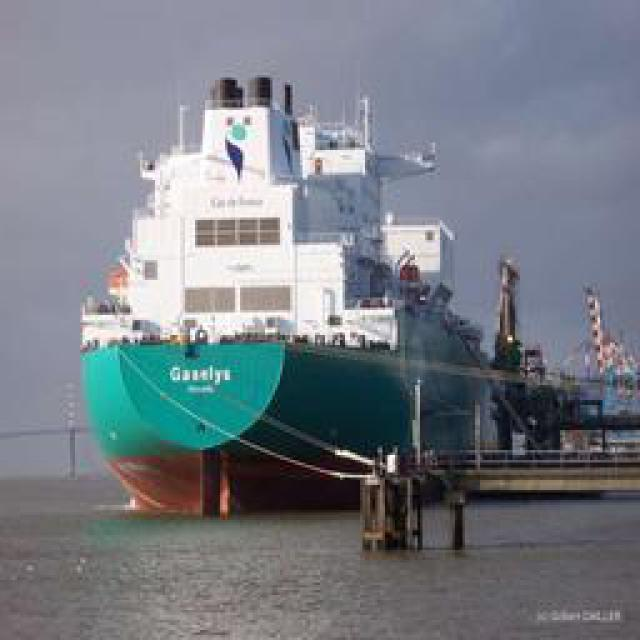Ship: (76, 70, 492, 524)
